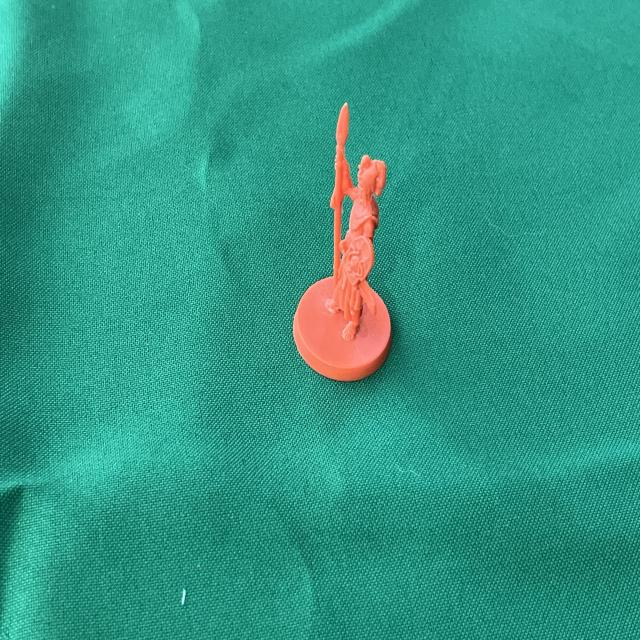amon_follower: (294, 103, 391, 380)
